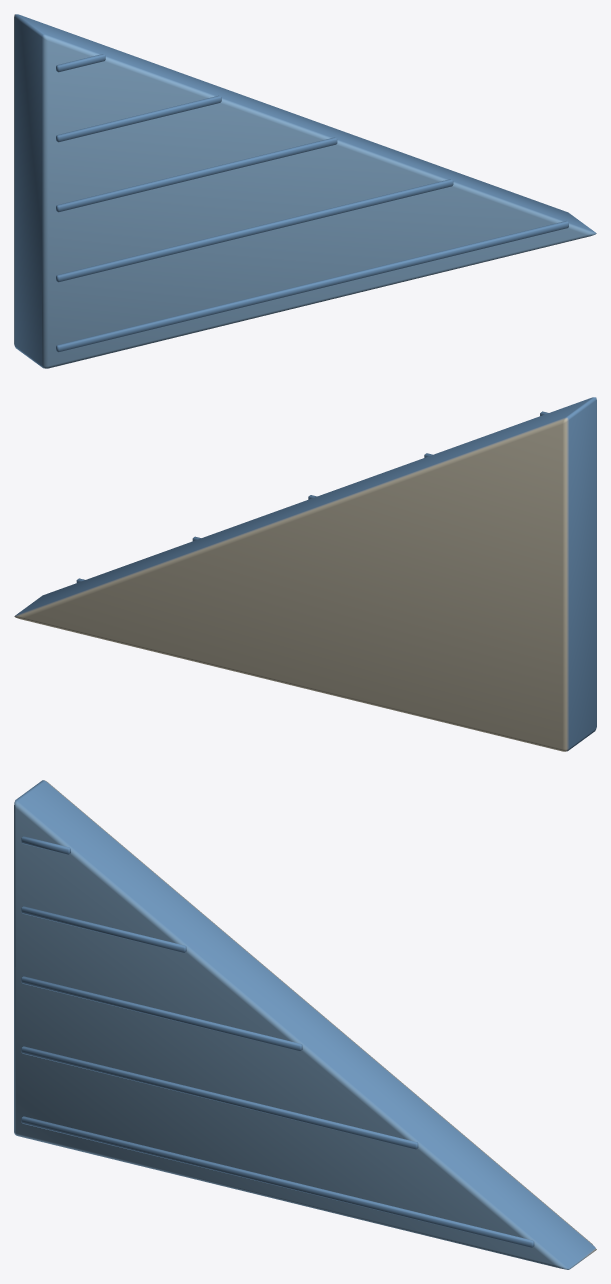
File: gable_blue_r.glb
3 views of the same model, one above another, from view 1: azimuth 30°, elevation 25°; view 2: azimuth 150°, elevation 25°; view 3: azimuth 330°, elevation 25° (orthographic).
Parts seen in each view (by area): view 1: gable_blue_r; view 2: gable_blue_r; view 3: gable_blue_r.
Boxes of the visible parts, <box> form: gable_blue_r: <box>14,14,596,368</box>; gable_blue_r: <box>14,397,596,751</box>; gable_blue_r: <box>14,780,596,1269</box>.
Size of the model in its own units: 1.99 by 1.15 by 0.216.
